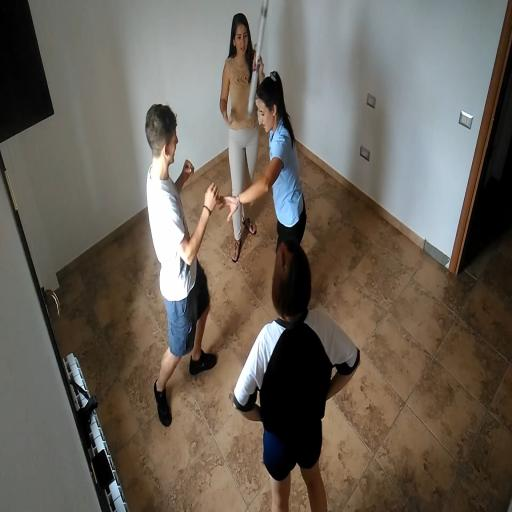violencia: (131, 0, 318, 432)
